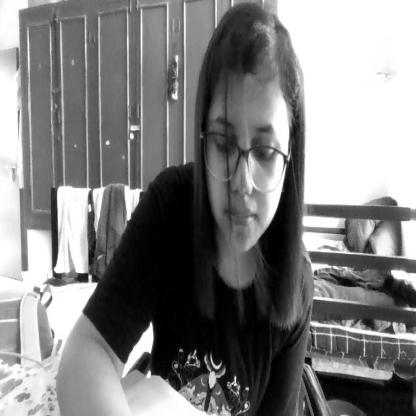Normal: (200, 12, 290, 244)
